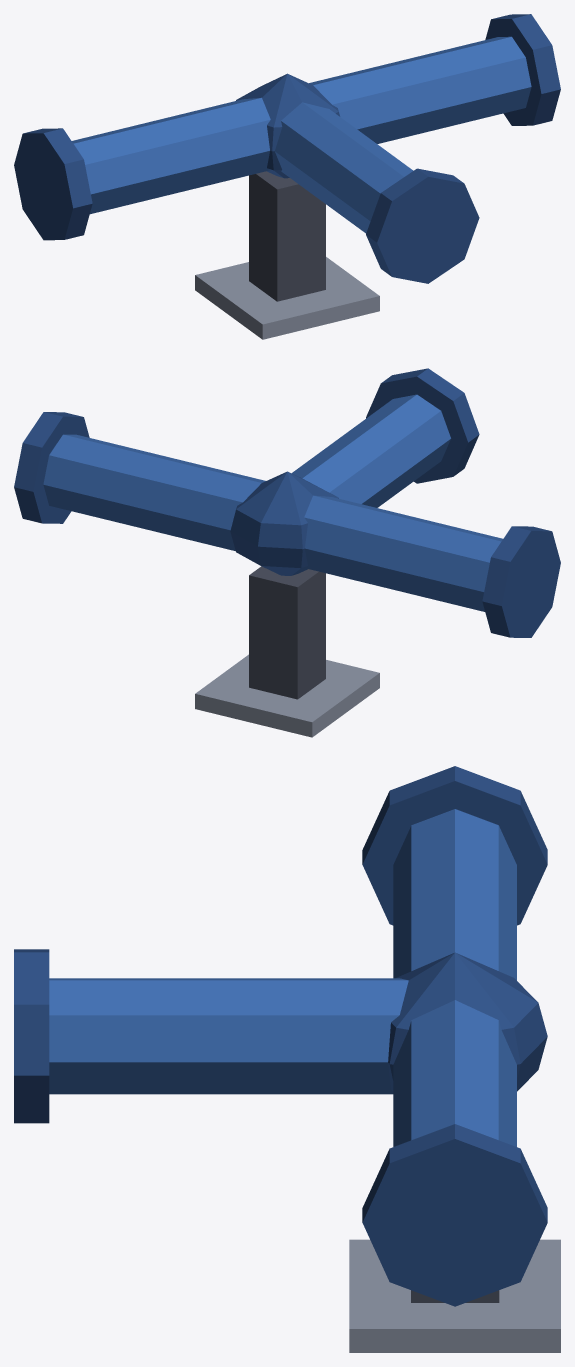
The model's file is water-pipe-tee.glb.
The picture shows the model from 3 angles, top to bottom: view 1: azimuth 30°, elevation 25°; view 2: azimuth 150°, elevation 25°; view 3: azimuth 270°, elevation 25°; orthographic projection. The views are drawn at different scales.
Visible parts, largest first — view 1: water-pipe-tee; view 2: water-pipe-tee; view 3: water-pipe-tee.
Boxes of the visible parts, x1,y1,x2,y2 form: water-pipe-tee: (14,14,560,339); water-pipe-tee: (14,368,560,737); water-pipe-tee: (14,766,560,1352).
Size of the model in its own units: 1 by 0.445 by 0.62.
1 material, 1 textured.
